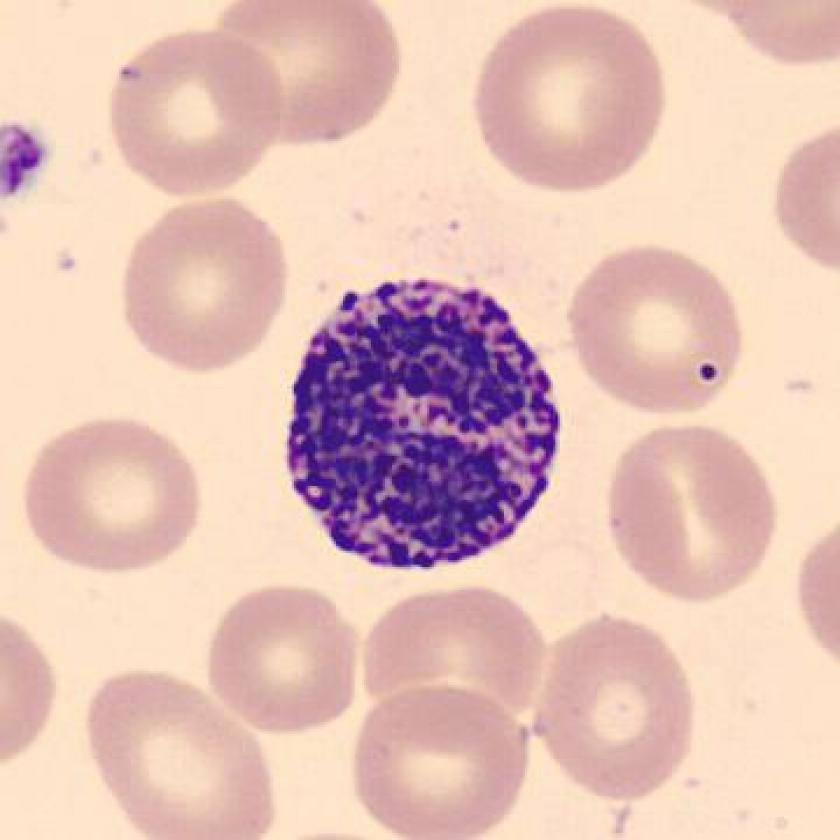basophil: (272, 274, 570, 582)
